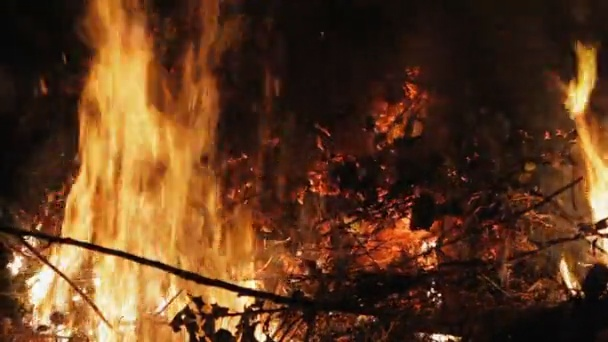fire: (7, 1, 268, 342), (575, 124, 608, 265), (565, 40, 597, 115), (556, 258, 581, 296), (432, 333, 457, 342)
